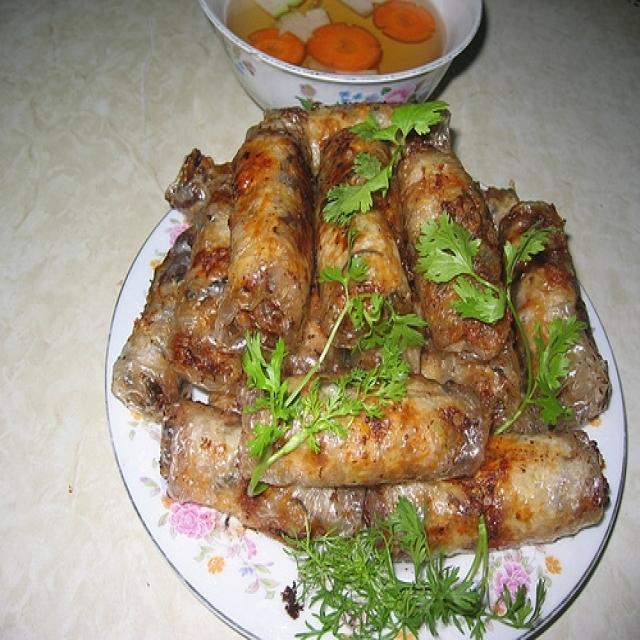炸货点心: (104, 90, 623, 618)
